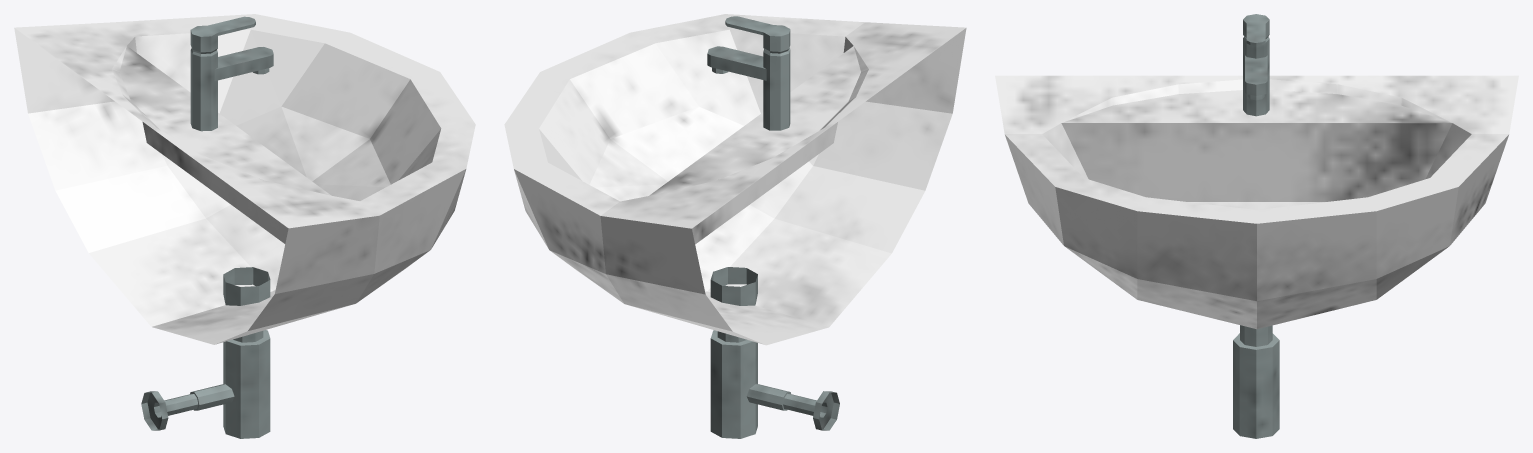
File: sink.fbx
3 views of the same model, side by side, from view 1: azimuth 30°, elevation 25°; view 2: azimuth 150°, elevation 25°; view 3: azimuth 270°, elevation 25° (orthographic). The views are drawn at different scales.
Visible parts, largest first — view 1: Cube; view 2: Cube; view 3: Cube.
Boxes of the visible parts, x1,y1,x2,y2 form: Cube: (14,14,475,438); Cube: (504,14,966,438); Cube: (995,14,1518,438).
Bounding box in the file's own units: 23.77 × 32.1 × 39.12.
Materials: 1 (1 with a texture image).
